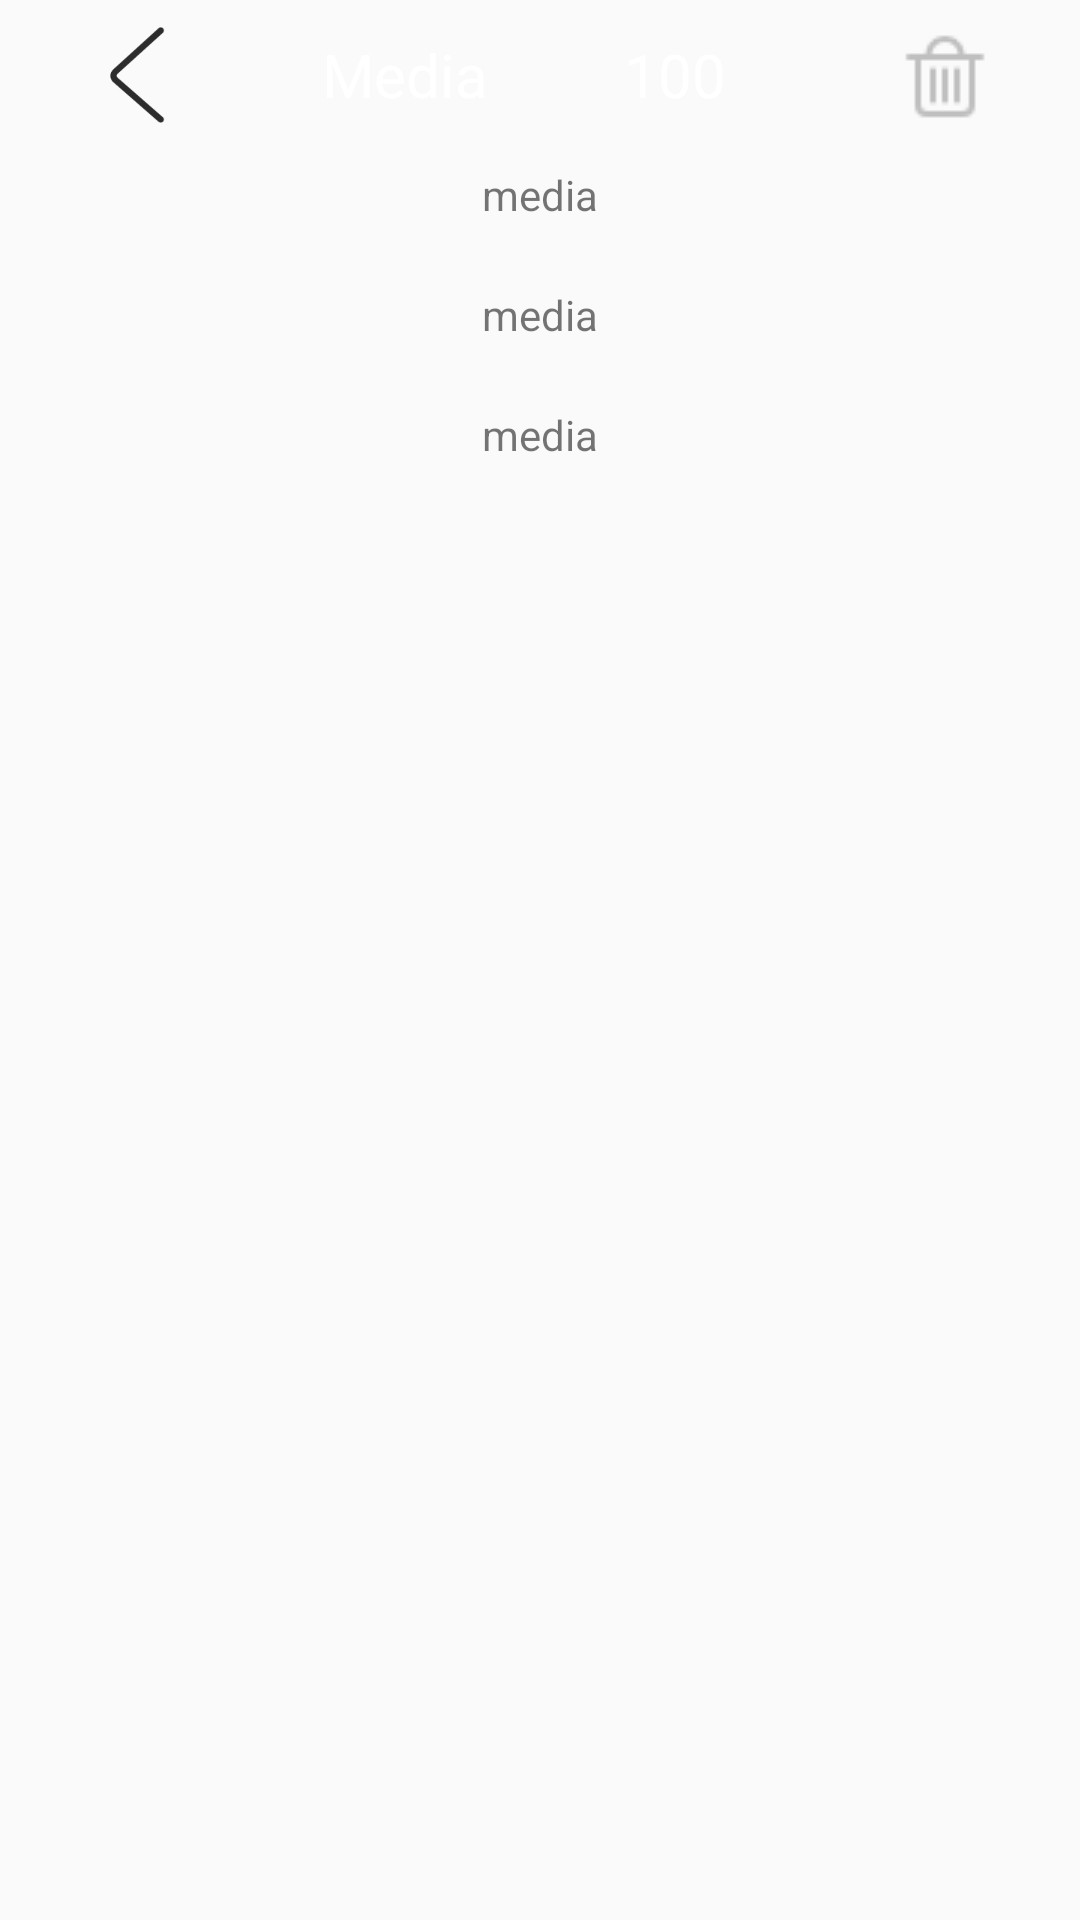

Icons on this 1080 × 1920 Android screen, each with the point to tap as point (x, y):
back: point (137, 75)
del: point (945, 76)
